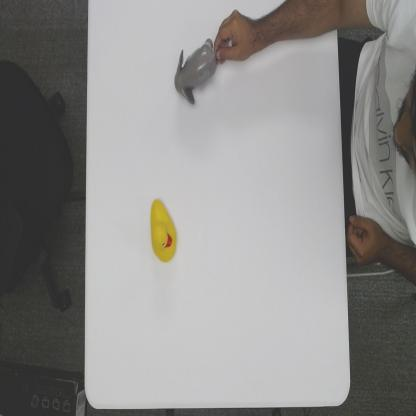Arm: (253, 0, 335, 51)
Duck: (150, 195, 178, 263)
Elephant: (174, 38, 218, 106)
Hand: (214, 8, 254, 65)
